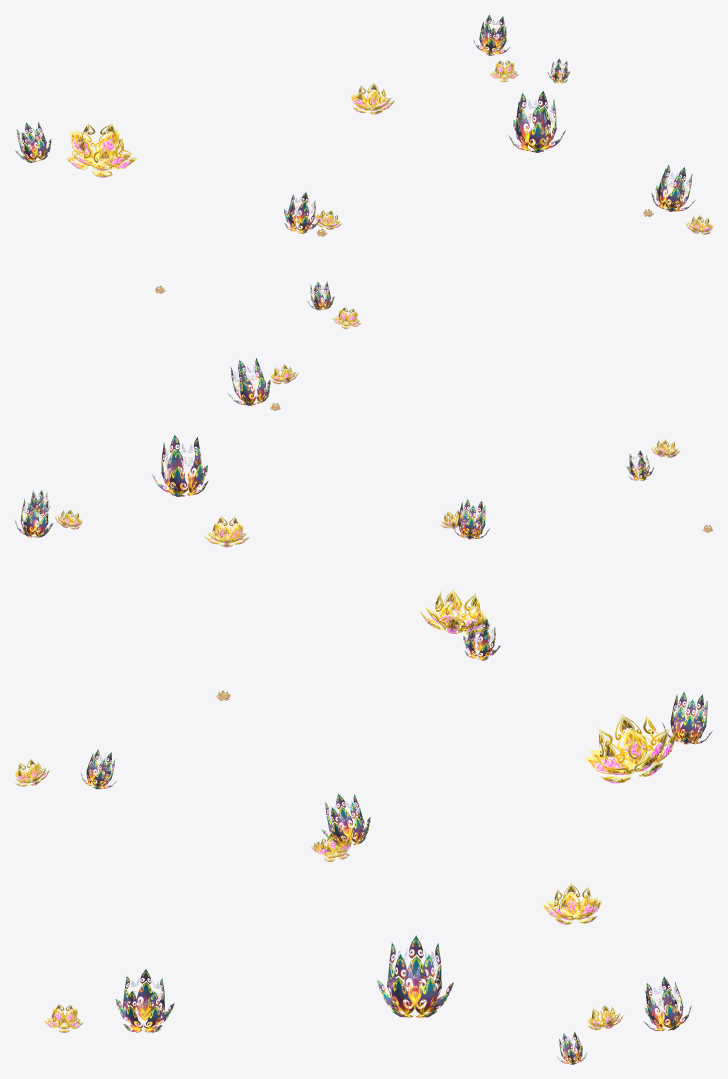
The model's file is all_lotus.glb.
3 renders of one model, top to bottom at view 1: azimuth 30°, elevation 25°; view 2: azimuth 150°, elevation 25°; view 3: azimuth 270°, elevation 25°, orthographic. The views are drawn at different scales.
Visible parts, largest first — view 1: Lotus_02.005, Lotus_01, Lotus_01.004, Lotus_01.003, Lotus_01.002, Lotus_01.001, Lotus_02.001, Lotus_01.005; view 2: Lotus_01, Lotus_02.005, Lotus_01.004, Lotus_01.001, Lotus_01.002, Lotus_01.003, Lotus_02.001, Lotus_01.005; view 3: Lotus_01, Lotus_02.005, Lotus_01.004, Lotus_01.003, Lotus_01.002, Lotus_01.001, Lotus_02.001, Lotus_01.005, Lotus_02.007, Lotus_02.008.
Part boxes in pixels (x1,y1,x2,y2): Lotus_02.005: [66, 123, 137, 177]; Lotus_01: [508, 90, 565, 152]; Lotus_01.004: [651, 164, 695, 211]; Lotus_01.003: [15, 122, 51, 162]; Lotus_01.002: [284, 192, 320, 233]; Lotus_01.001: [473, 15, 509, 55]; Lotus_02.001: [351, 83, 394, 114]; Lotus_01.005: [307, 281, 334, 310]; Lotus_01: [152, 434, 208, 496]; Lotus_02.005: [420, 589, 490, 634]; Lotus_01.004: [227, 358, 270, 405]; Lotus_01.001: [14, 497, 52, 537]; Lotus_01.002: [452, 499, 489, 539]; Lotus_01.003: [463, 619, 500, 660]; Lotus_02.001: [204, 516, 249, 547]; Lotus_01.005: [626, 450, 654, 480]; Lotus_01: [377, 935, 453, 1017]; Lotus_02.005: [584, 714, 676, 783]; Lotus_01.004: [115, 969, 174, 1033]; Lotus_01.003: [662, 691, 712, 744]; Lotus_01.002: [321, 793, 370, 846]; Lotus_01.001: [644, 977, 691, 1030]; Lotus_02.001: [543, 883, 601, 924]; Lotus_01.005: [80, 749, 116, 789]; Lotus_02.007: [314, 832, 351, 861]; Lotus_02.008: [44, 1004, 82, 1032].
Size of what is drawn, in the model's own units: 27.81 by 2.55 by 23.25.
2 materials, 2 textured.
